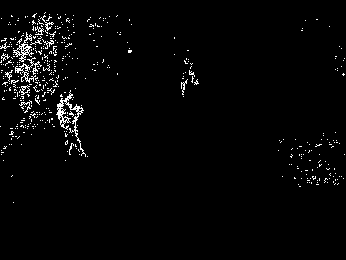person: (56, 93, 87, 157)
